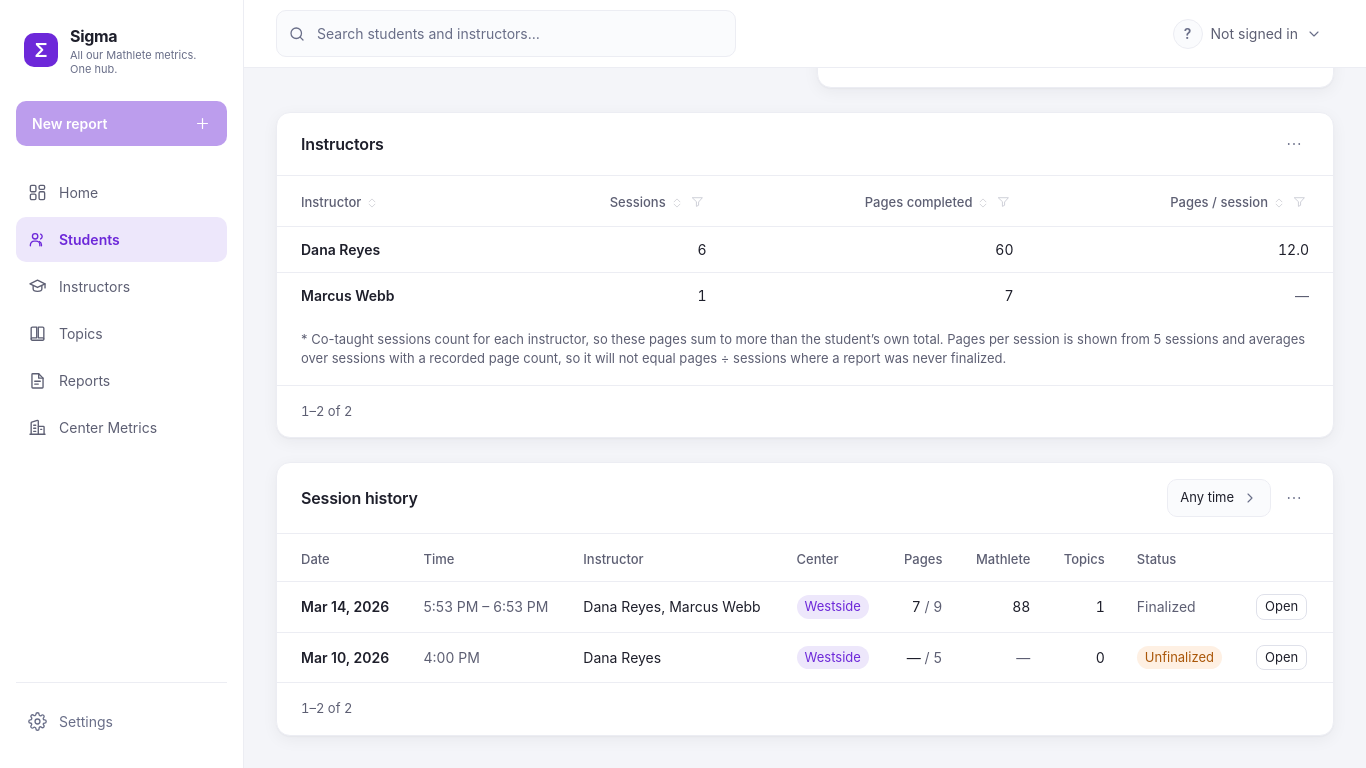
Scenario: student profile › expands a session to its notes, with the emoji decoded
(page scrolled)
Click the row "Mar 14, 2026" at {"x": 805, "y": 607}, box [277,582,1333,632]
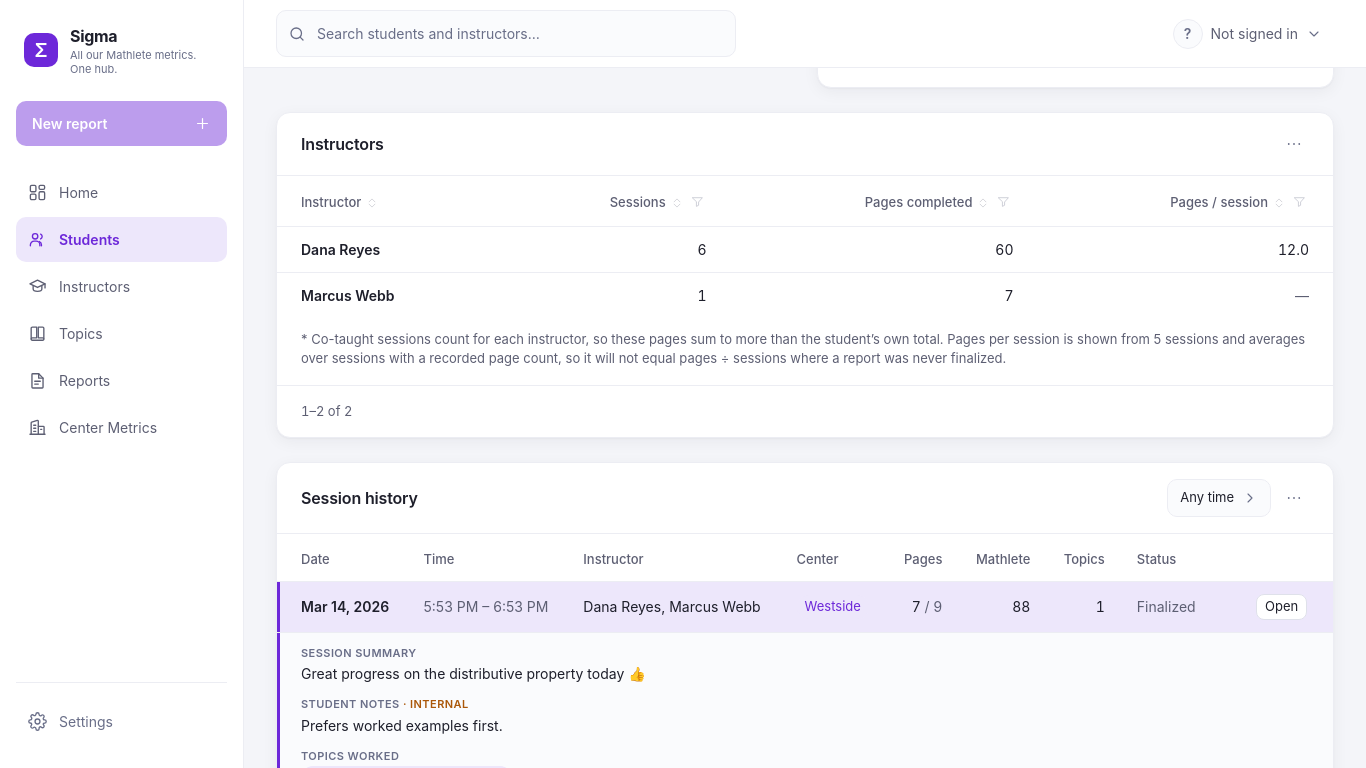
Expected: the text "Great progress on the distributive property today 👍" is shown, [301,665,646,682]
Expected: the text "Student notes" is shown, [301,697,400,711]
Expected: the text "Prefers worked examples first." is shown, [301,717,503,734]
